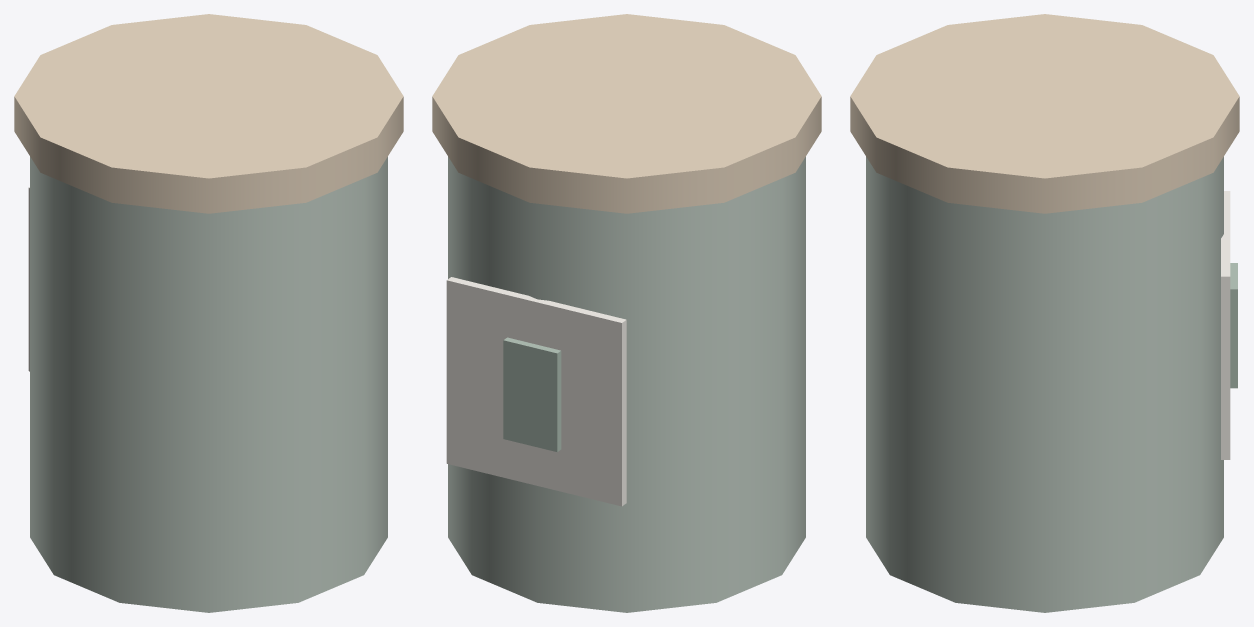
File: tea.glb
The picture shows the model from 3 angles, left to right: view 1: azimuth 30°, elevation 25°; view 2: azimuth 150°, elevation 25°; view 3: azimuth 270°, elevation 25°; orthographic projection.
Visible parts, largest first — view 1: tea.material0, tea.material1; view 2: tea.material0, tea.material1, tea.material2, tea.material3; view 3: tea.material0, tea.material1, tea.material2, tea.material3.
Part boxes in pixels (left/top/right/bottom): tea.material0: left=30, top=157, right=387, bottom=612; tea.material1: left=14, top=14, right=403, bottom=213; tea.material0: left=448, top=157, right=805, bottom=612; tea.material1: left=432, top=14, right=821, bottom=213; tea.material2: left=446, top=277, right=626, bottom=506; tea.material3: left=503, top=337, right=561, bottom=452; tea.material0: left=866, top=157, right=1223, bottom=612; tea.material1: left=850, top=14, right=1239, bottom=213; tea.material2: left=1221, top=191, right=1230, bottom=459; tea.material3: left=1230, top=263, right=1237, bottom=388.
Size of the model in its own units: 0.25 by 0.3125 by 0.25.
